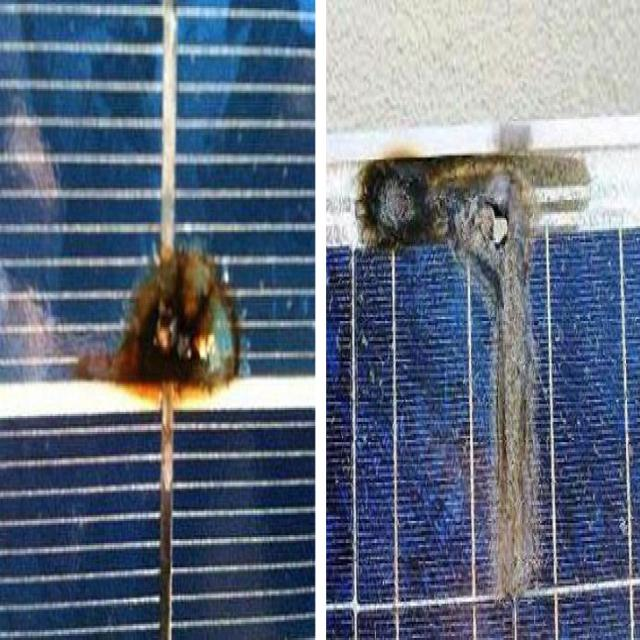Electrical-damage: (355, 146, 598, 624), (57, 210, 281, 432)
